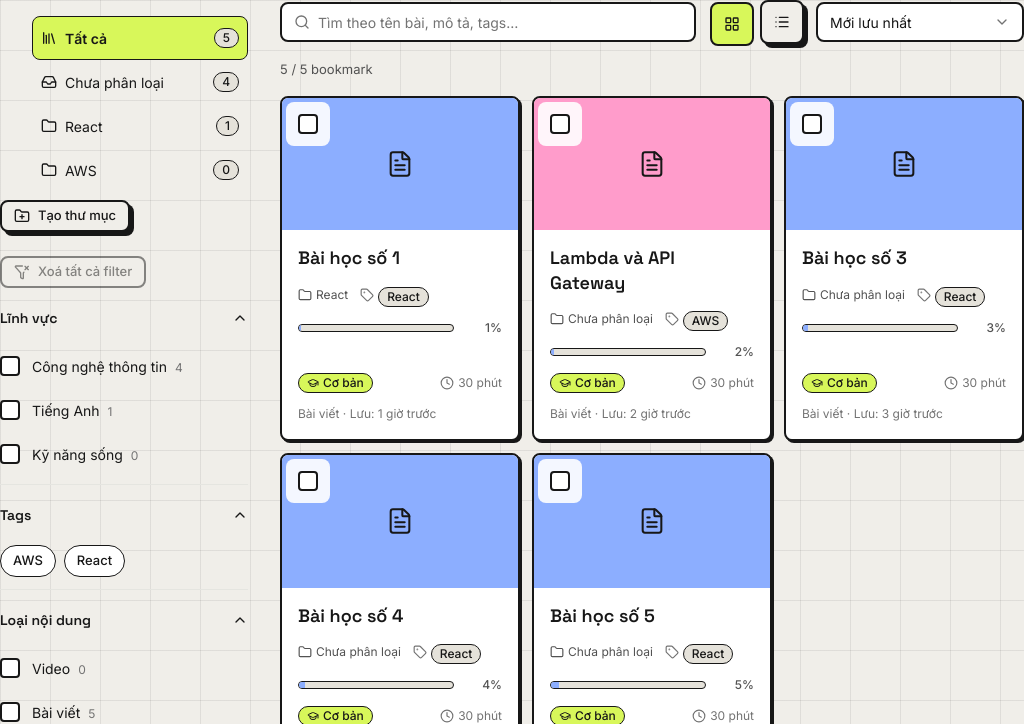
Test: BookmarkManager › deletes the selected bookmarks after confirming
The width and height of the screenshot is (1024, 724).
Click the checkbox named "Chọn Bài học số 1".
click(308, 124)  # box [286,102,330,146]
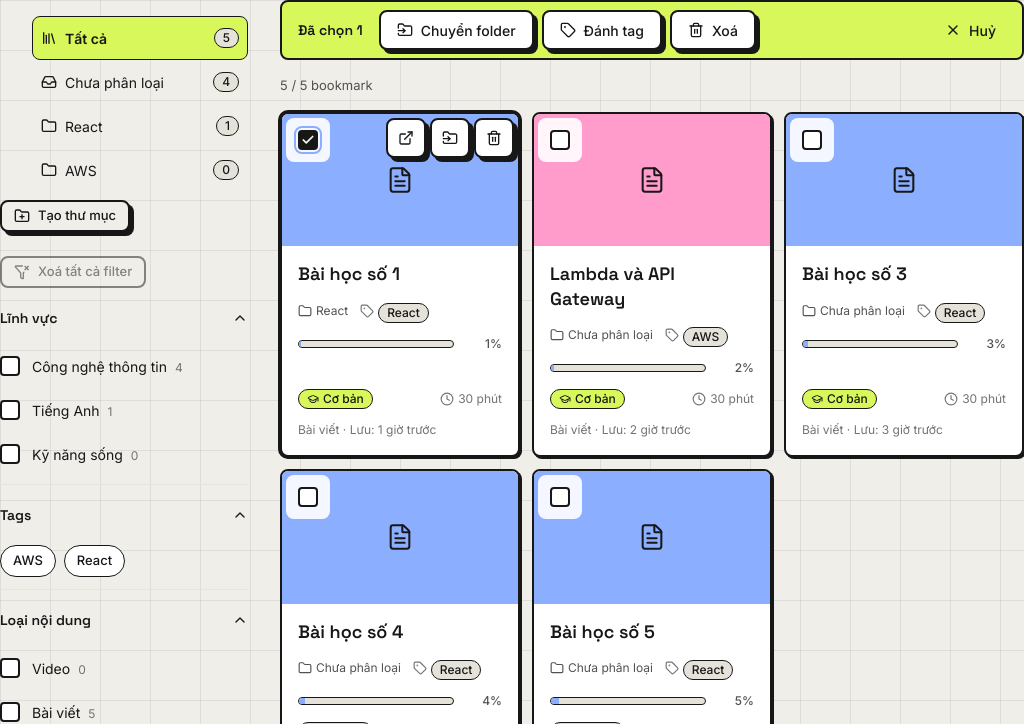
Click the checkbox named "Chọn Bài học số 3".
click(812, 140)  # box [790,118,834,162]
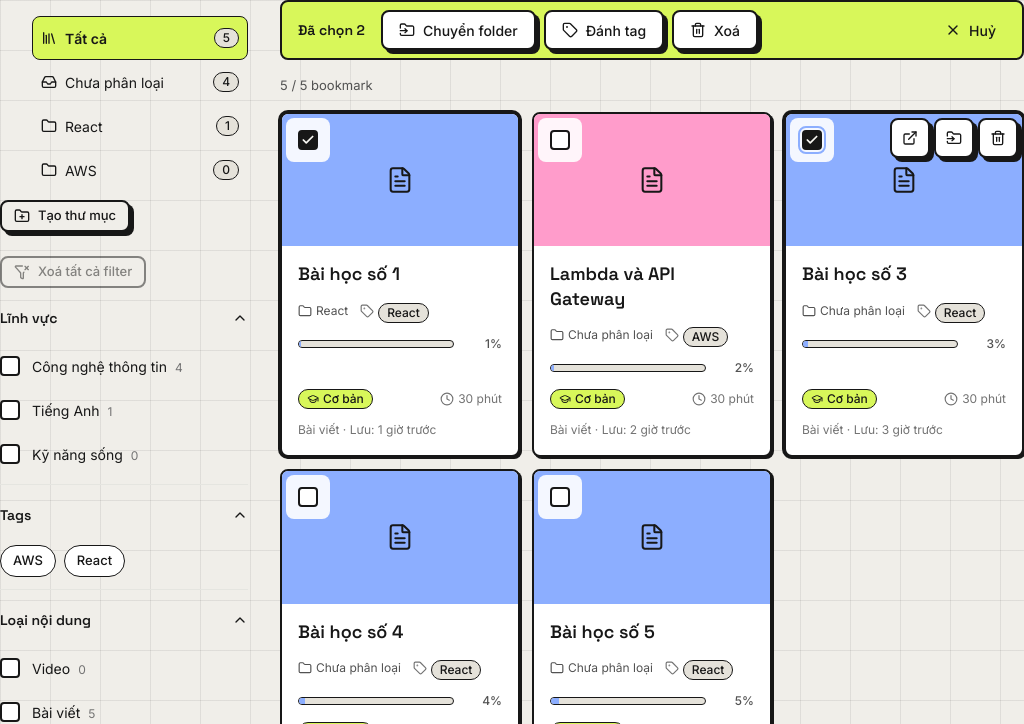
Click the button "Xoá".
click(715, 30)  # box [672,10,758,50]
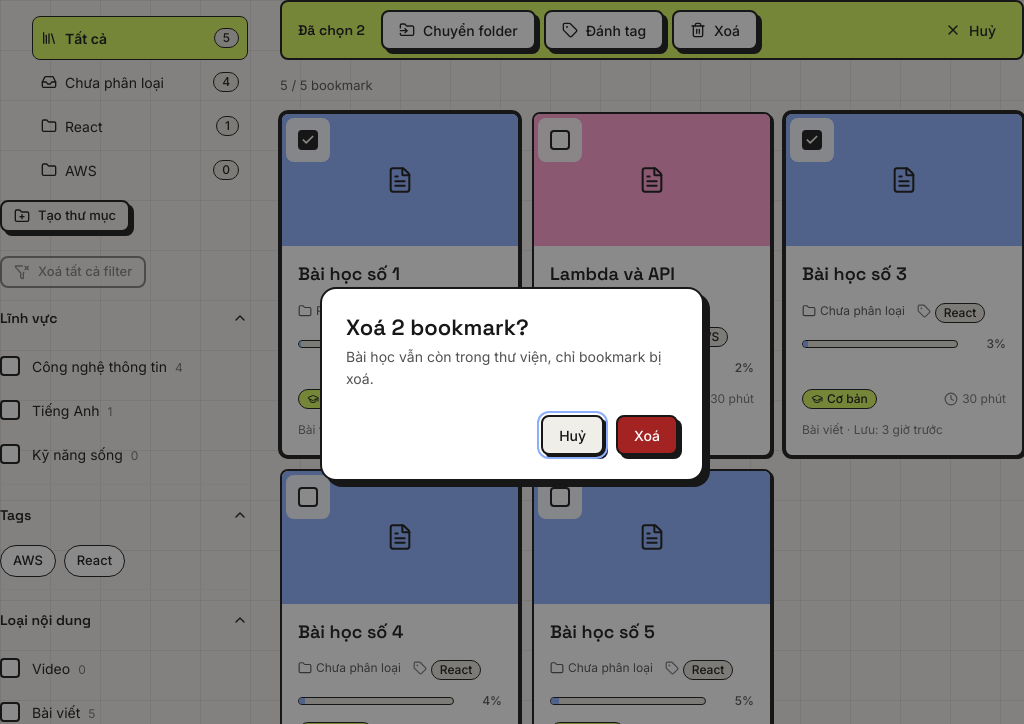
Expected: the heading "Xoá 2 bookmark?" is shown, [346,313,529,341]
Click the button "Huỷ".
click(573, 435)  # box [541,415,604,455]
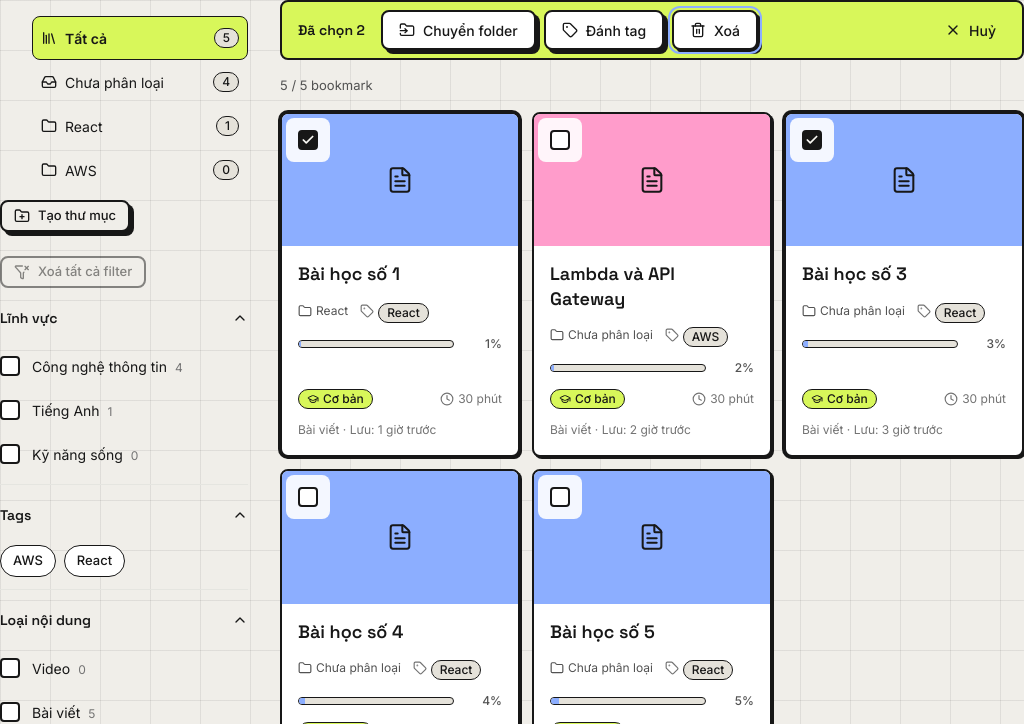
Click the button "Xoá".
click(715, 30)  # box [672,10,758,50]
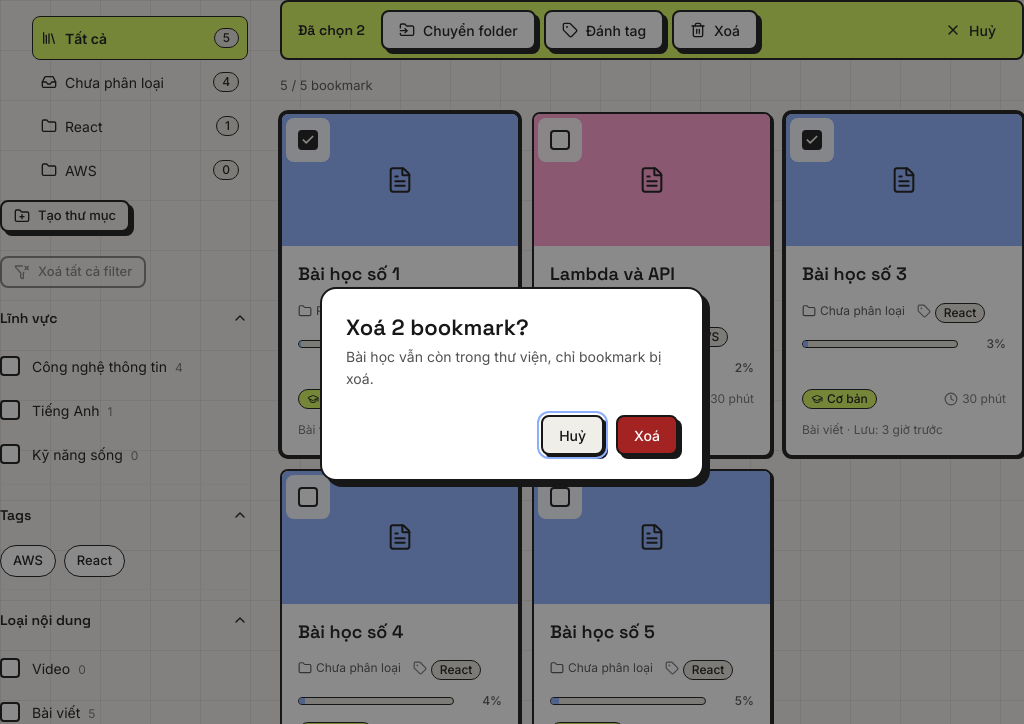
Click the button "Xoá".
click(647, 435)  # box [616,415,678,455]
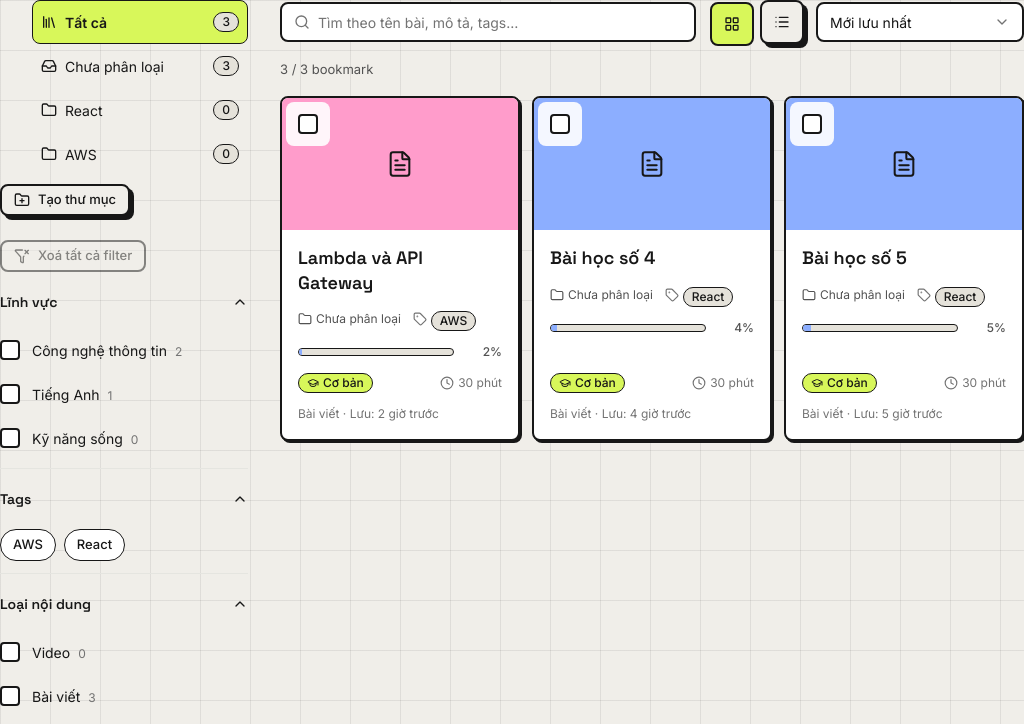
Expected: the text "3 / 3 bookmark" is shown, [280,61,373,77]
